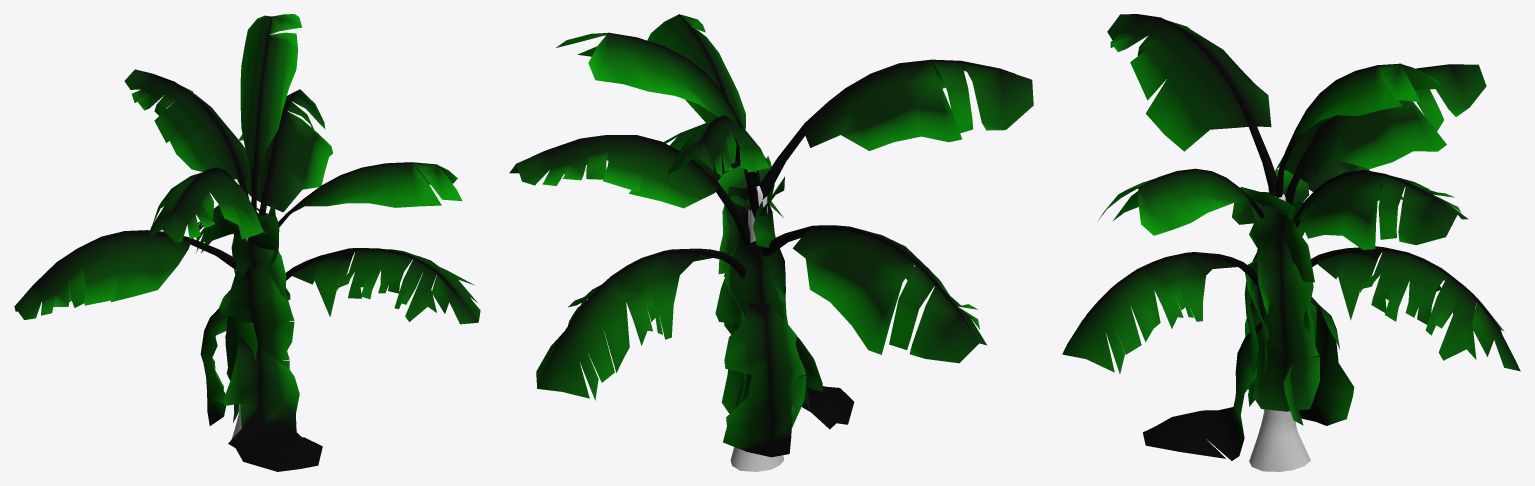
Rendered from BananaTree01_afsTREE_xlprl15_xlod00.fbx.
3 renders of one model, left to right at view 1: azimuth 30°, elevation 25°; view 2: azimuth 150°, elevation 25°; view 3: azimuth 270°, elevation 25°, orthographic. The views are drawn at different scales.
Visible parts, largest first — view 1: BananaLeaf_xw05_xt08_xlp04_xp05, DyingBranch_xw05_xt08_xlp05_xp05, DeadBananaLeaf_xw00_xt00_xlp00.003, BananaLeaf_xw10_xt08_xlp06_xp03, BananaLeaf_xw08_xt10_xlp05_xp06, BananaLeaf_xw08_xt08_xlp04, BananaLeaf_xw08_xt12_xlp05_xp09, BananaLeaf_xw07_xt10_xlp05_xp04, DeadBananaLeaf_xw00_xt00_xlp00.001, DeadBananaLeaf_xw00_xt00_xlp00.004, DeadBananaLeaf_xw02_xt02_xlp02_xp10, DeadBananaLeaf_xw00_xt00_xlp00.002 (+2 smaller); view 2: BananaLeaf_xw05_xt08_xlp04_xp05, BananaLeaf_xw07_xt10_xlp05_xp04, DyingBranch_xw05_xt08_xlp03_xp01, BananaLeaf_xw08_xt08_xlp04, DeadBananaLeaf_xw02_xt02_xlp02_xp10, BananaLeaf_xw10_xt08_xlp06_xp03, DeadBananaLeaf_xw00_xt00_xlp00.002, BananaLeaf_xw08_xt10_xlp05_xp06, BananaLeaf_xw08_xt12_xlp05_xp09, DeadBananaLeaf_xw00_xt00_xlp00.003, trunk_bananaTree01_xw05_xt04, DeadBananaLeaf_xw00_xt00_xlp00.005 (+4 smaller); view 3: BananaLeaf_xw07_xt10_xlp05_xp04, DyingBranch_xw05_xt08_xlp03_xp01, DyingBranch_xw05_xt08_xlp05_xp05, BananaLeaf_xw08_xt10_xlp05_xp06, BananaLeaf_xw08_xt08_xlp04, DeadBananaLeaf_xw00_xt00_xlp00, BananaLeaf_xw10_xt08_xlp06_xp03, BananaLeaf_xw08_xt12_xlp05_xp09, DeadBananaLeaf_xw00_xt00_xlp00.003, DeadBananaLeaf_xw02_xt02_xlp02_xp10, trunk_bananaTree01_xw05_xt04, DeadBananaLeaf_xw00_xt00_xlp00.005 (+7 smaller).
Boxes of the visible parts, <box> form: BananaLeaf_xw05_xt08_xlp04_xp05: <box>14,230,236,319</box>; DyingBranch_xw05_xt08_xlp05_xp05: <box>285,248,480,324</box>; DeadBananaLeaf_xw00_xt00_xlp00.003: <box>224,337,322,471</box>; BananaLeaf_xw10_xt08_xlp06_xp03: <box>240,14,302,214</box>; BananaLeaf_xw08_xt10_xlp05_xp06: <box>124,69,250,198</box>; BananaLeaf_xw08_xt08_xlp04: <box>237,89,332,215</box>; BananaLeaf_xw08_xt12_xlp05_xp09: <box>278,162,462,226</box>; BananaLeaf_xw07_xt10_xlp05_xp04: <box>145,167,263,242</box>; DeadBananaLeaf_xw00_xt00_xlp00.001: <box>219,260,289,380</box>; DeadBananaLeaf_xw00_xt00_xlp00.004: <box>225,231,294,349</box>; DeadBananaLeaf_xw02_xt02_xlp02_xp10: <box>200,308,228,425</box>; DeadBananaLeaf_xw00_xt00_xlp00.002: <box>225,315,258,422</box>; BananaLeaf_xw05_xt08_xlp04_xp05: <box>761,225,986,363</box>; BananaLeaf_xw07_xt10_xlp05_xp04: <box>760,59,1033,199</box>; DyingBranch_xw05_xt08_xlp03_xp01: <box>536,248,746,400</box>; BananaLeaf_xw08_xt08_xlp04: <box>509,135,750,245</box>; DeadBananaLeaf_xw02_xt02_xlp02_xp10: <box>723,302,801,457</box>; BananaLeaf_xw10_xt08_xlp06_xp03: <box>556,32,760,186</box>; DeadBananaLeaf_xw00_xt00_xlp00.002: <box>715,216,806,428</box>; BananaLeaf_xw08_xt10_xlp05_xp06: <box>662,115,771,218</box>; BananaLeaf_xw08_xt12_xlp05_xp09: <box>647,14,745,165</box>; DeadBananaLeaf_xw00_xt00_xlp00.003: <box>795,336,854,429</box>; trunk_bananaTree01_xw05_xt04: <box>730,186,784,471</box>; DeadBananaLeaf_xw00_xt00_xlp00.005: <box>718,186,748,274</box>; BananaLeaf_xw07_xt10_xlp05_xp04: <box>1107,14,1277,192</box>; DyingBranch_xw05_xt08_xlp03_xp01: <box>1311,246,1520,371</box>; DyingBranch_xw05_xt08_xlp05_xp05: <box>1062,252,1270,373</box>; BananaLeaf_xw08_xt10_xlp05_xp06: <box>1285,64,1486,204</box>; BananaLeaf_xw08_xt08_xlp04: <box>1286,170,1468,249</box>; DeadBananaLeaf_xw00_xt00_xlp00: <box>1248,232,1319,411</box>; BananaLeaf_xw10_xt08_xlp06_xp03: <box>1275,63,1441,197</box>; BananaLeaf_xw08_xt12_xlp05_xp09: <box>1098,168,1264,235</box>; DeadBananaLeaf_xw00_xt00_xlp00.003: <box>1143,322,1261,460</box>; DeadBananaLeaf_xw02_xt02_xlp02_xp10: <box>1299,297,1354,425</box>; trunk_bananaTree01_xw05_xt04: <box>1249,194,1310,471</box>; DeadBananaLeaf_xw00_xt00_xlp00.005: <box>1249,202,1314,282</box>.
Bounding box in the file's own units: 5.32 × 4.86 × 5.13.
